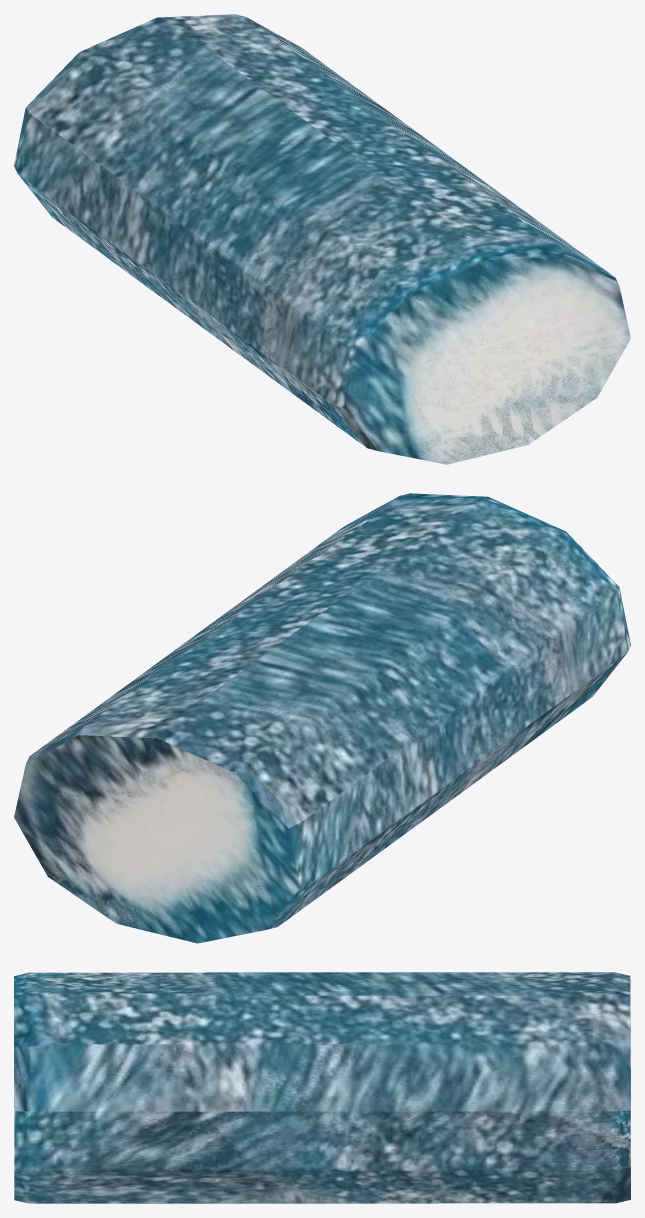
Rendered from rocketz.glb.
3 renders of one model, top to bottom at view 1: azimuth 30°, elevation 25°; view 2: azimuth 150°, elevation 25°; view 3: azimuth 270°, elevation 25°, orthographic. The views are drawn at different scales.
Visible parts, largest first — view 1: Cylinder; view 2: Cylinder; view 3: Cylinder.
Part boxes in pixels (left/top/right/bottom): Cylinder: left=14, top=14, right=630, bottom=464; Cylinder: left=14, top=493, right=630, bottom=943; Cylinder: left=14, top=972, right=630, bottom=1203.
Bounding box in the file's own units: 1.98 × 1.29 × 3.84.
Materials: 1 (1 with a texture image).
